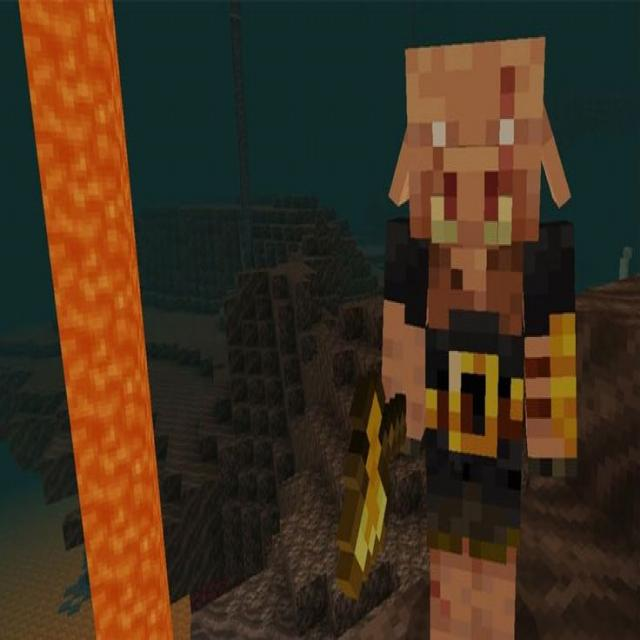Piglin: (333, 33, 578, 638)
